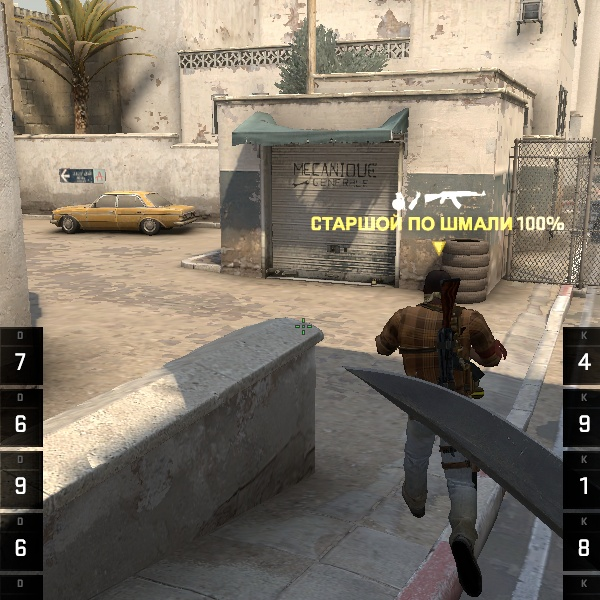t_body: (371, 262, 511, 582)
t_head: (411, 263, 468, 321)
